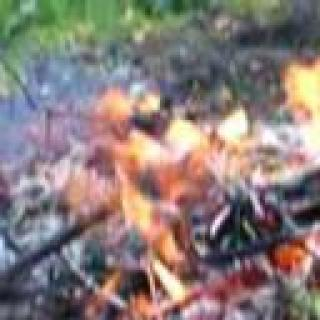fire: (77, 47, 320, 311)
